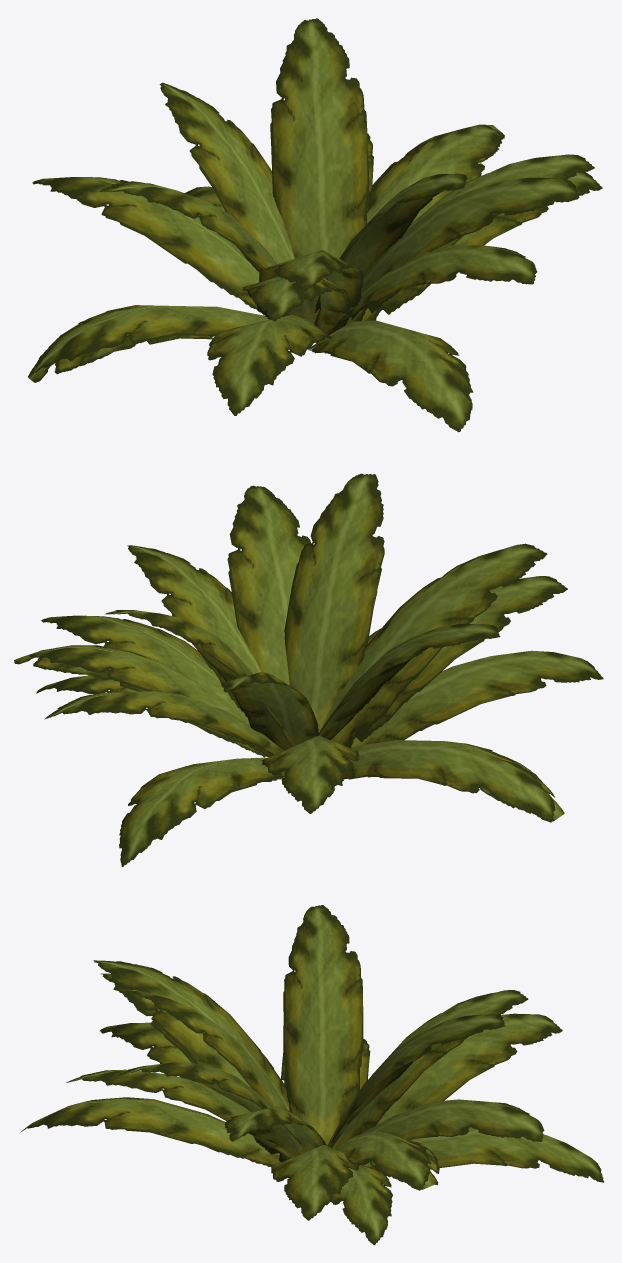
The model's file is SM_TI_Palm_Plant_0.fbx.
3 views of the same model, one above another, from view 1: azimuth 30°, elevation 25°; view 2: azimuth 150°, elevation 25°; view 3: azimuth 270°, elevation 25° (orthographic). The views are drawn at different scales.
Parts seen in each view (by area): view 1: SM_TI_Palm_Plant_0; view 2: SM_TI_Palm_Plant_0; view 3: SM_TI_Palm_Plant_0.
Boxes of the visible parts, box(x1,y1,x2,y2) form: SM_TI_Palm_Plant_0: box(28, 18, 602, 432); SM_TI_Palm_Plant_0: box(14, 473, 603, 866); SM_TI_Palm_Plant_0: box(20, 905, 603, 1245).
Size of the model in its own units: 2.77 by 2.81 by 1.14.
